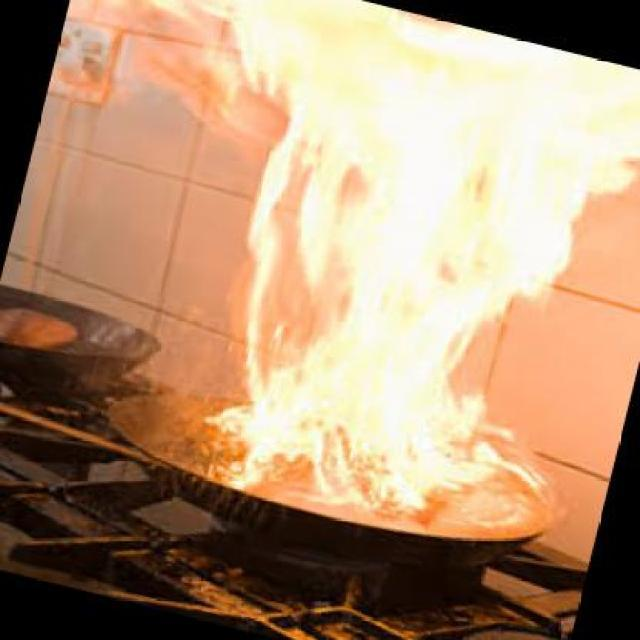Fire: (174, 0, 634, 549)
